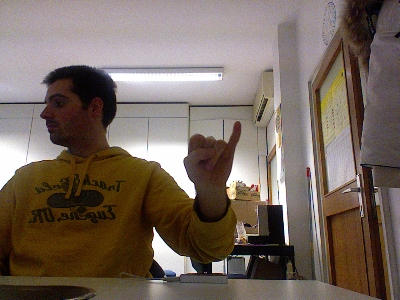小指: (181, 117, 244, 188)
